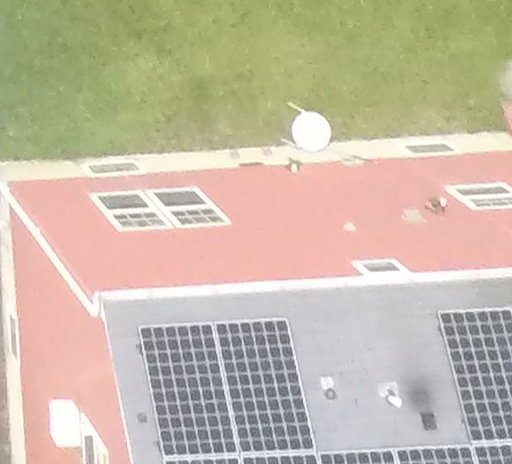table: (274, 95, 333, 152)
